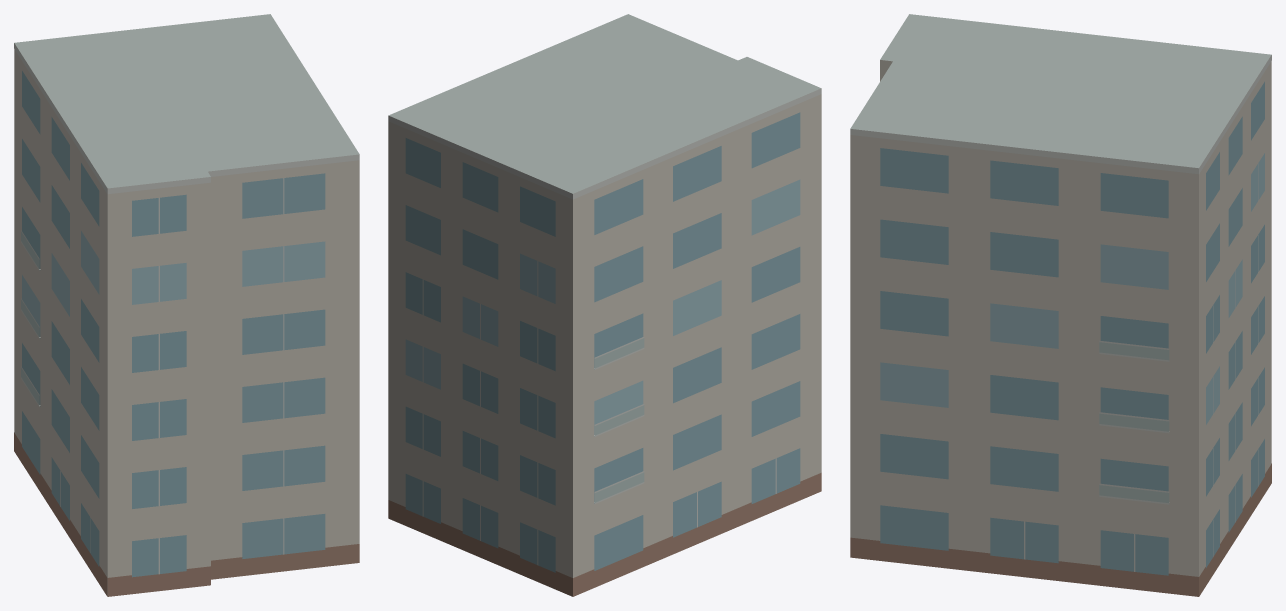
File: survey-upis-32633448.glb
The picture shows the model from 3 angles, left to right: view 1: azimuth 30°, elevation 25°; view 2: azimuth 150°, elevation 25°; view 3: azimuth 270°, elevation 25°; orthographic projection. The views are drawn at different scales.
Parts seen in each view (by area): view 1: survey-upis-32633448.tmp; view 2: survey-upis-32633448.tmp; view 3: survey-upis-32633448.tmp.
Part boxes in pixels (left/top/right/bottom): survey-upis-32633448.tmp: left=14, top=14, right=359, bottom=596; survey-upis-32633448.tmp: left=388, top=14, right=821, bottom=596; survey-upis-32633448.tmp: left=850, top=14, right=1271, bottom=596.
Size of the model in its own units: 13.28 by 17.2 by 15.34.
